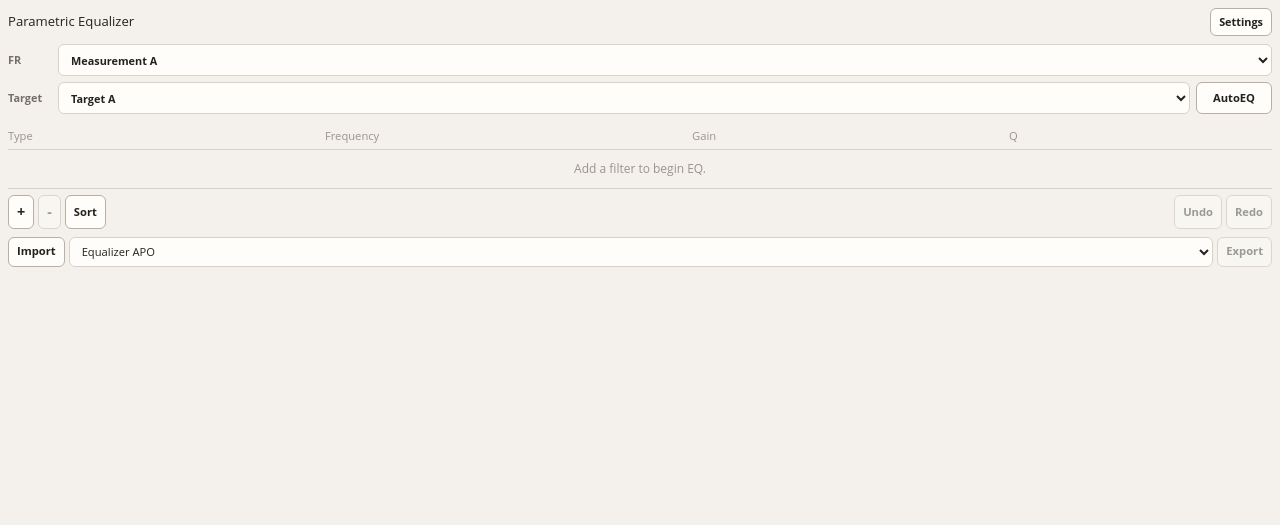
EqualizerTab › enables AutoEQ only for ready active coverage without adding another settings surface
Expected: the button "AutoEQ" is enabled, [1196,82,1272,114]
Click the button "Settings": x=1241, y=22 [1210,8,1272,36]
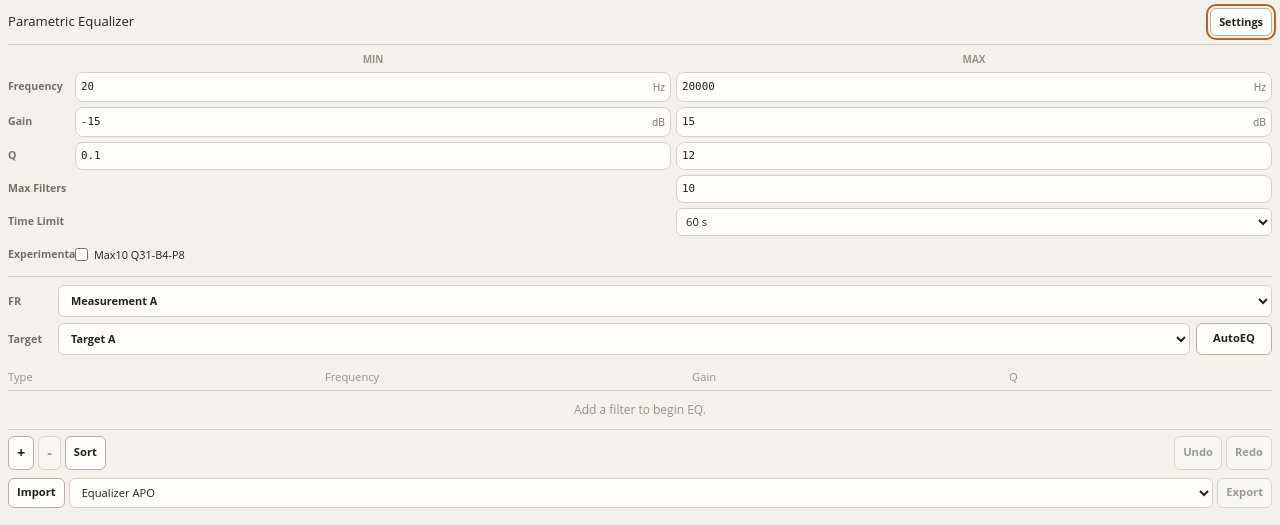
Result: the number of elements named "AutoEQ Settings" is 1 at [8,44,1272,277]
